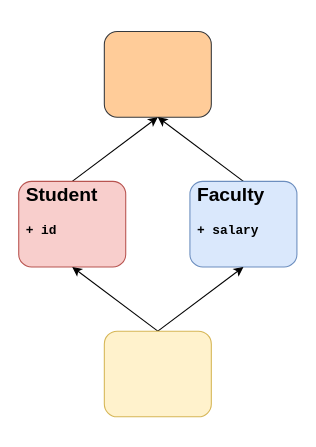
Some shapes in this 316 by 447 pixel diagram are drawn without their labels. Here are the shapes that lost their labels. From the top down, the centre of each, then its label:
point 157,73: Person + name
point 157,373: GA + labs
